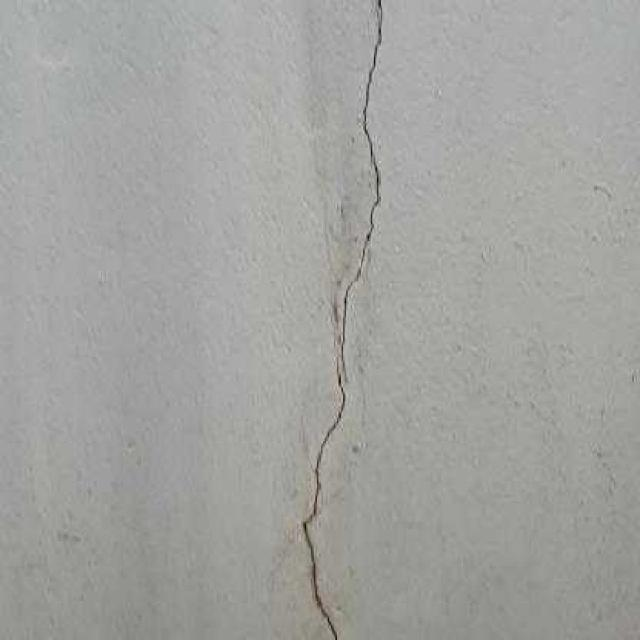D00: (304, 354, 346, 640), (342, 157, 380, 372), (364, 0, 382, 157)
